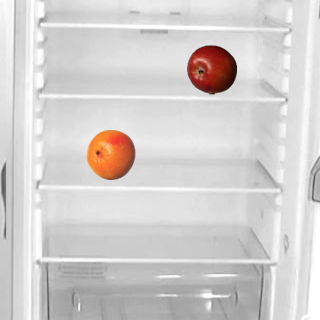Apple Braeburn: (186, 44, 236, 94)
Grapefruit Pink: (85, 129, 135, 179)
